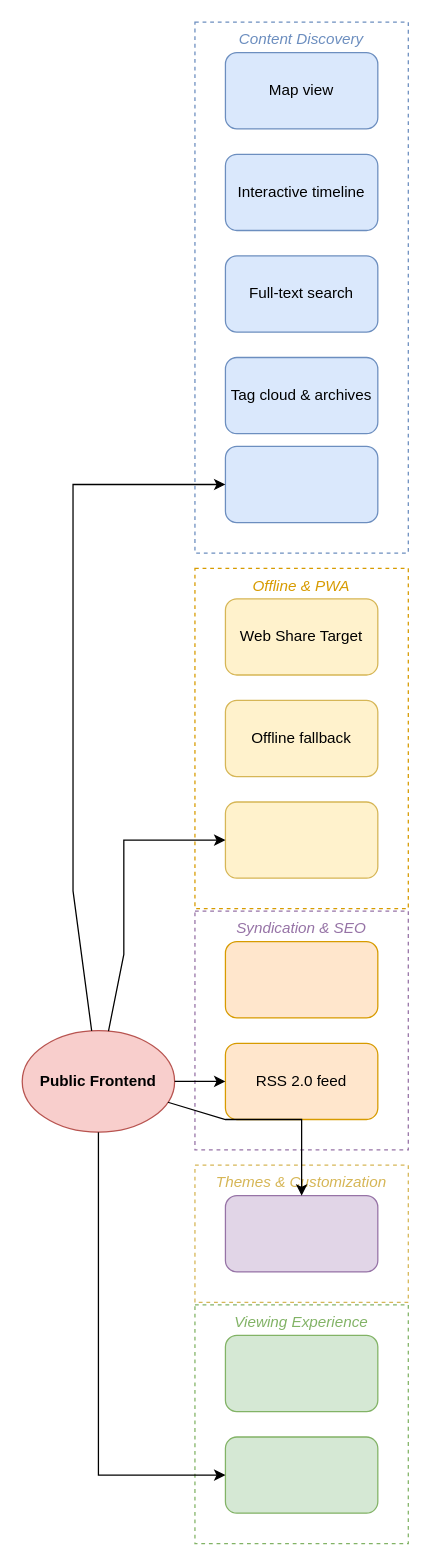
Image size: 431x1566. Some labels were removed from this diagram. Each missing label, with the centre of its shape:
Immersive viewer: point 301,1474
Light / dark / auto modes: point 301,1233
Media lightbox: point 301,1373
Responsive post grid: point 301,484
Service Worker caching: point 301,839
XML sitemap: point 301,979
